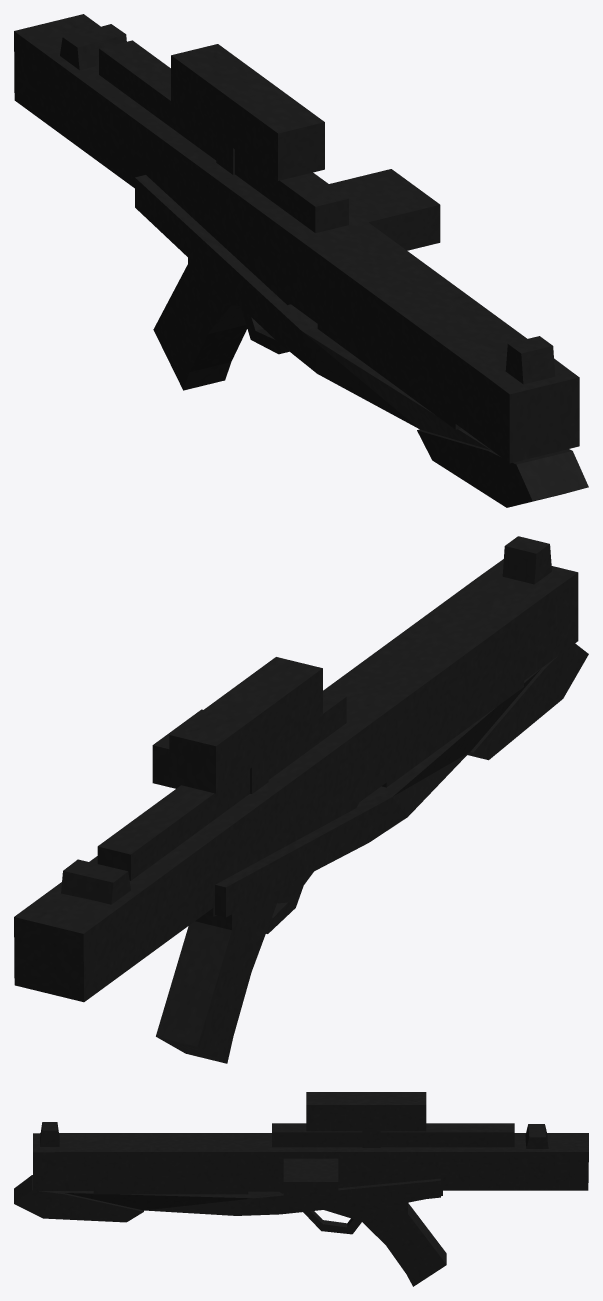
File: inventory.obj
3 views of the same model, one above another, from view 1: azimuth 30°, elevation 25°; view 2: azimuth 150°, elevation 25°; view 3: azimuth 270°, elevation 25° (orthographic). The views are drawn at different scales.
Parts seen in each view (by area): view 1: Cylinder.002_Cylinder.003; view 2: Cylinder.002_Cylinder.003; view 3: Cylinder.002_Cylinder.003.
Boxes of the visible parts, x1=… form: Cylinder.002_Cylinder.003: x1=14, y1=14, x2=588, y2=507; Cylinder.002_Cylinder.003: x1=14, y1=536, x2=588, y2=1063; Cylinder.002_Cylinder.003: x1=14, y1=1092, x2=588, y2=1286.
Size of the model in its own units: 0.9926 by 1.88 by 5.34.
